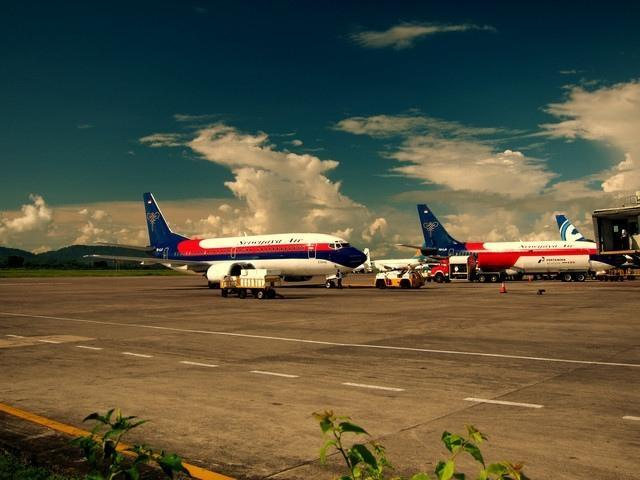truck: (220, 268, 282, 300), (431, 256, 476, 283), (374, 264, 422, 288)
